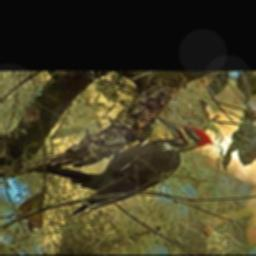Woodpecker: (65, 116, 214, 216)
